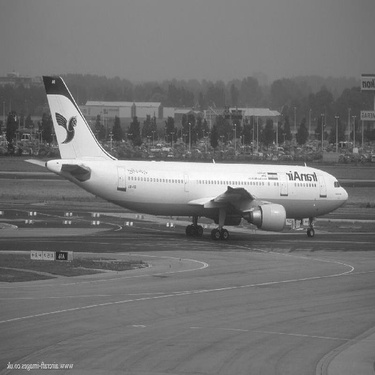airplane: (9, 63, 359, 248)
